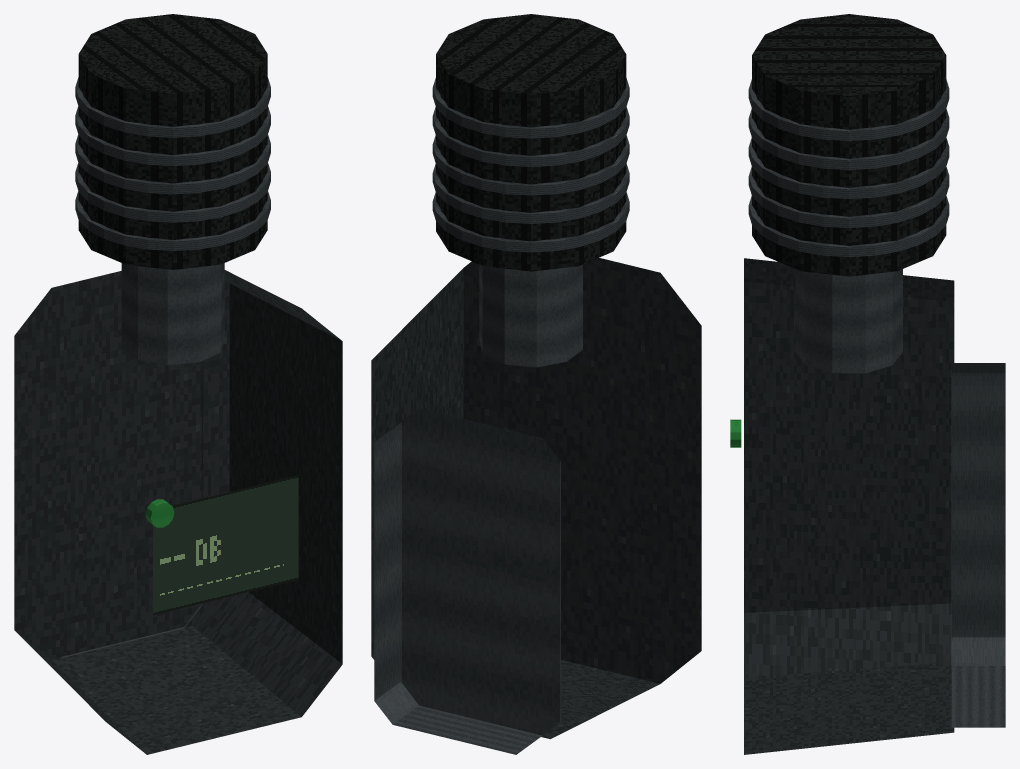
File: blender_sound_sensor_2.glb
3 renders of one model, left to right at view 1: azimuth 30°, elevation 25°; view 2: azimuth 150°, elevation 25°; view 3: azimuth 270°, elevation 25°, orthographic. The views are drawn at different scales.
Visible parts, largest first — view 1: blender_sound_sensor_2; view 2: blender_sound_sensor_2; view 3: blender_sound_sensor_2.
Boxes of the visible parts, left/top/right/bottom form: blender_sound_sensor_2: left=14, top=14, right=342, bottom=754; blender_sound_sensor_2: left=371, top=14, right=701, bottom=754; blender_sound_sensor_2: left=730, top=14, right=1005, bottom=754.
Size of the model in its own units: 0.052 by 0.1353 by 0.051.
5 materials, 5 textured.
